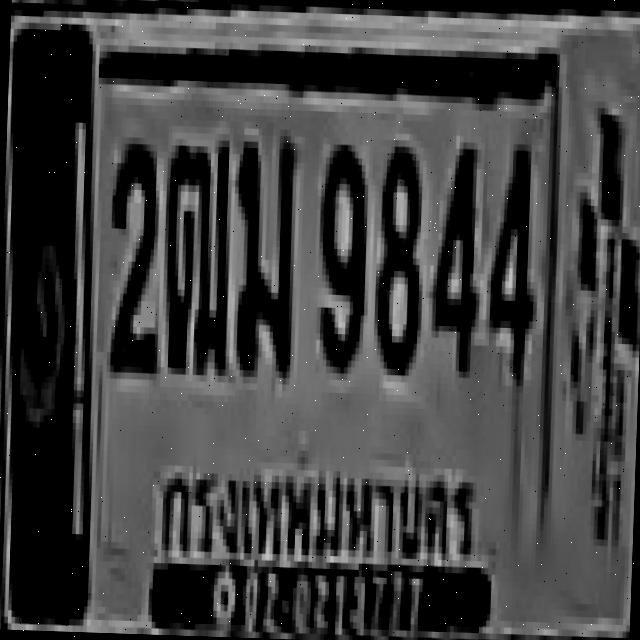2: (103, 136, 161, 366)
27ThorPhuThao: (158, 135, 231, 372)
4: (484, 140, 535, 376), (428, 141, 479, 371)
42MorMa: (228, 134, 294, 371)
8: (369, 139, 423, 369)
9: (314, 137, 368, 367)
Bangkok: (152, 444, 484, 581)
